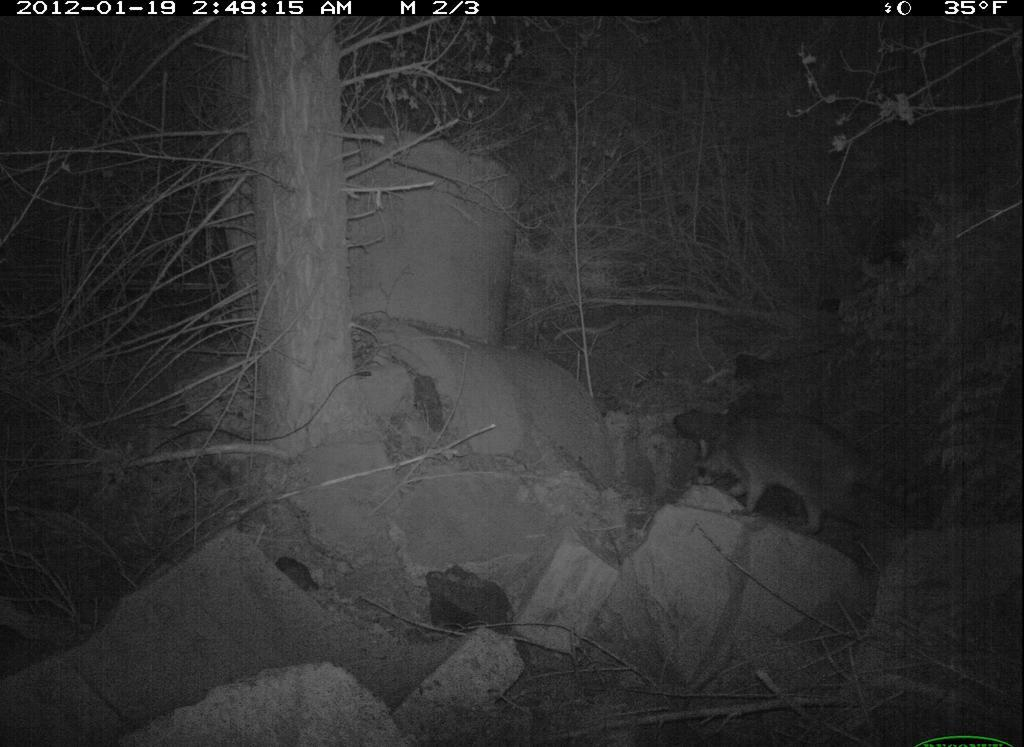raccoon: (683, 409, 945, 548)
